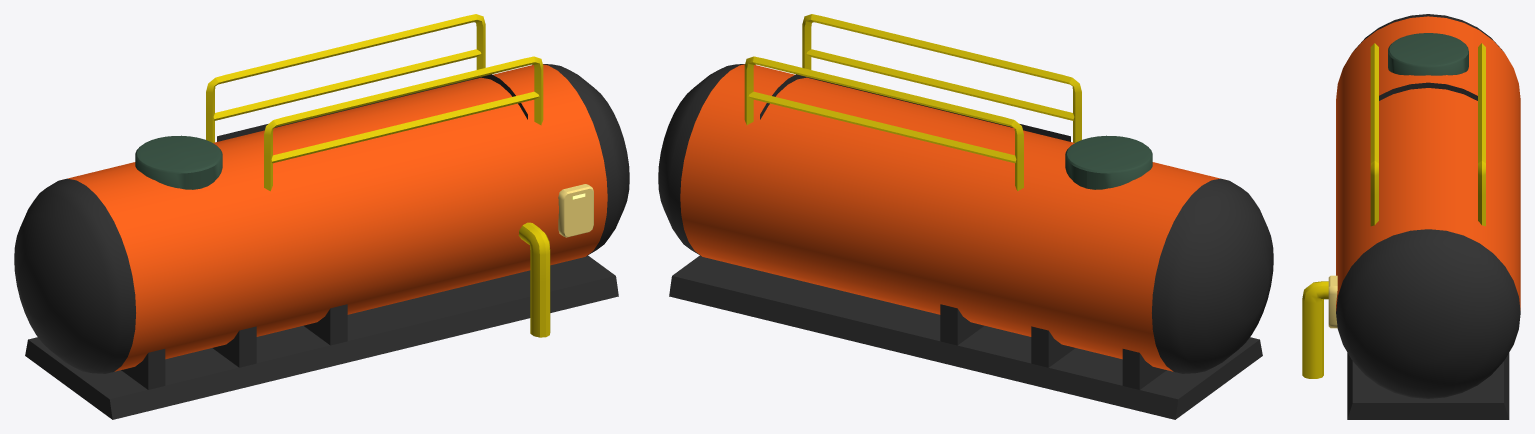
Rendered from gasTank.fbx.
3 renders of one model, left to right at view 1: azimuth 30°, elevation 25°; view 2: azimuth 150°, elevation 25°; view 3: azimuth 270°, elevation 25°, orthographic. The views are drawn at different scales.
Visible parts, largest first — view 1: Fuel Tank; view 2: Fuel Tank; view 3: Fuel Tank.
Part boxes in pixels (left/top/right/bottom): Fuel Tank: left=14, top=14, right=629, bottom=419; Fuel Tank: left=658, top=14, right=1273, bottom=419; Fuel Tank: left=1302, top=14, right=1520, bottom=419.
Size of the model in its own units: 810 by 333 by 289.
